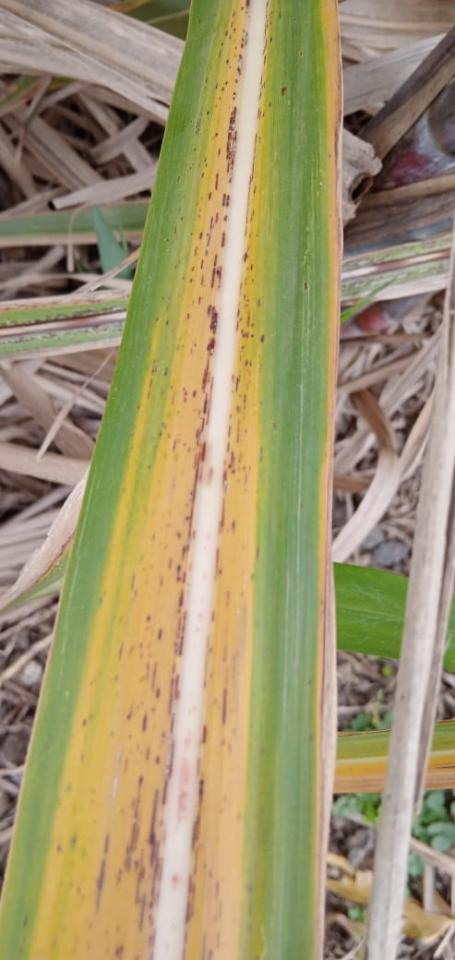RedRot: (174, 735, 193, 833), (169, 873, 181, 891), (208, 466, 214, 487)
Rust: (108, 0, 250, 959), (214, 0, 271, 586), (184, 778, 207, 926), (221, 682, 228, 724)
Yellow: (27, 0, 254, 959), (180, 0, 267, 957), (314, 0, 344, 959)
